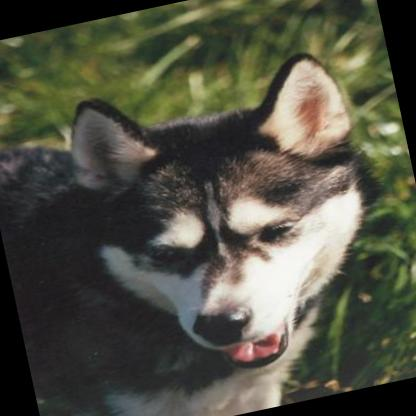Eskimo_dog: (0, 29, 416, 416)
